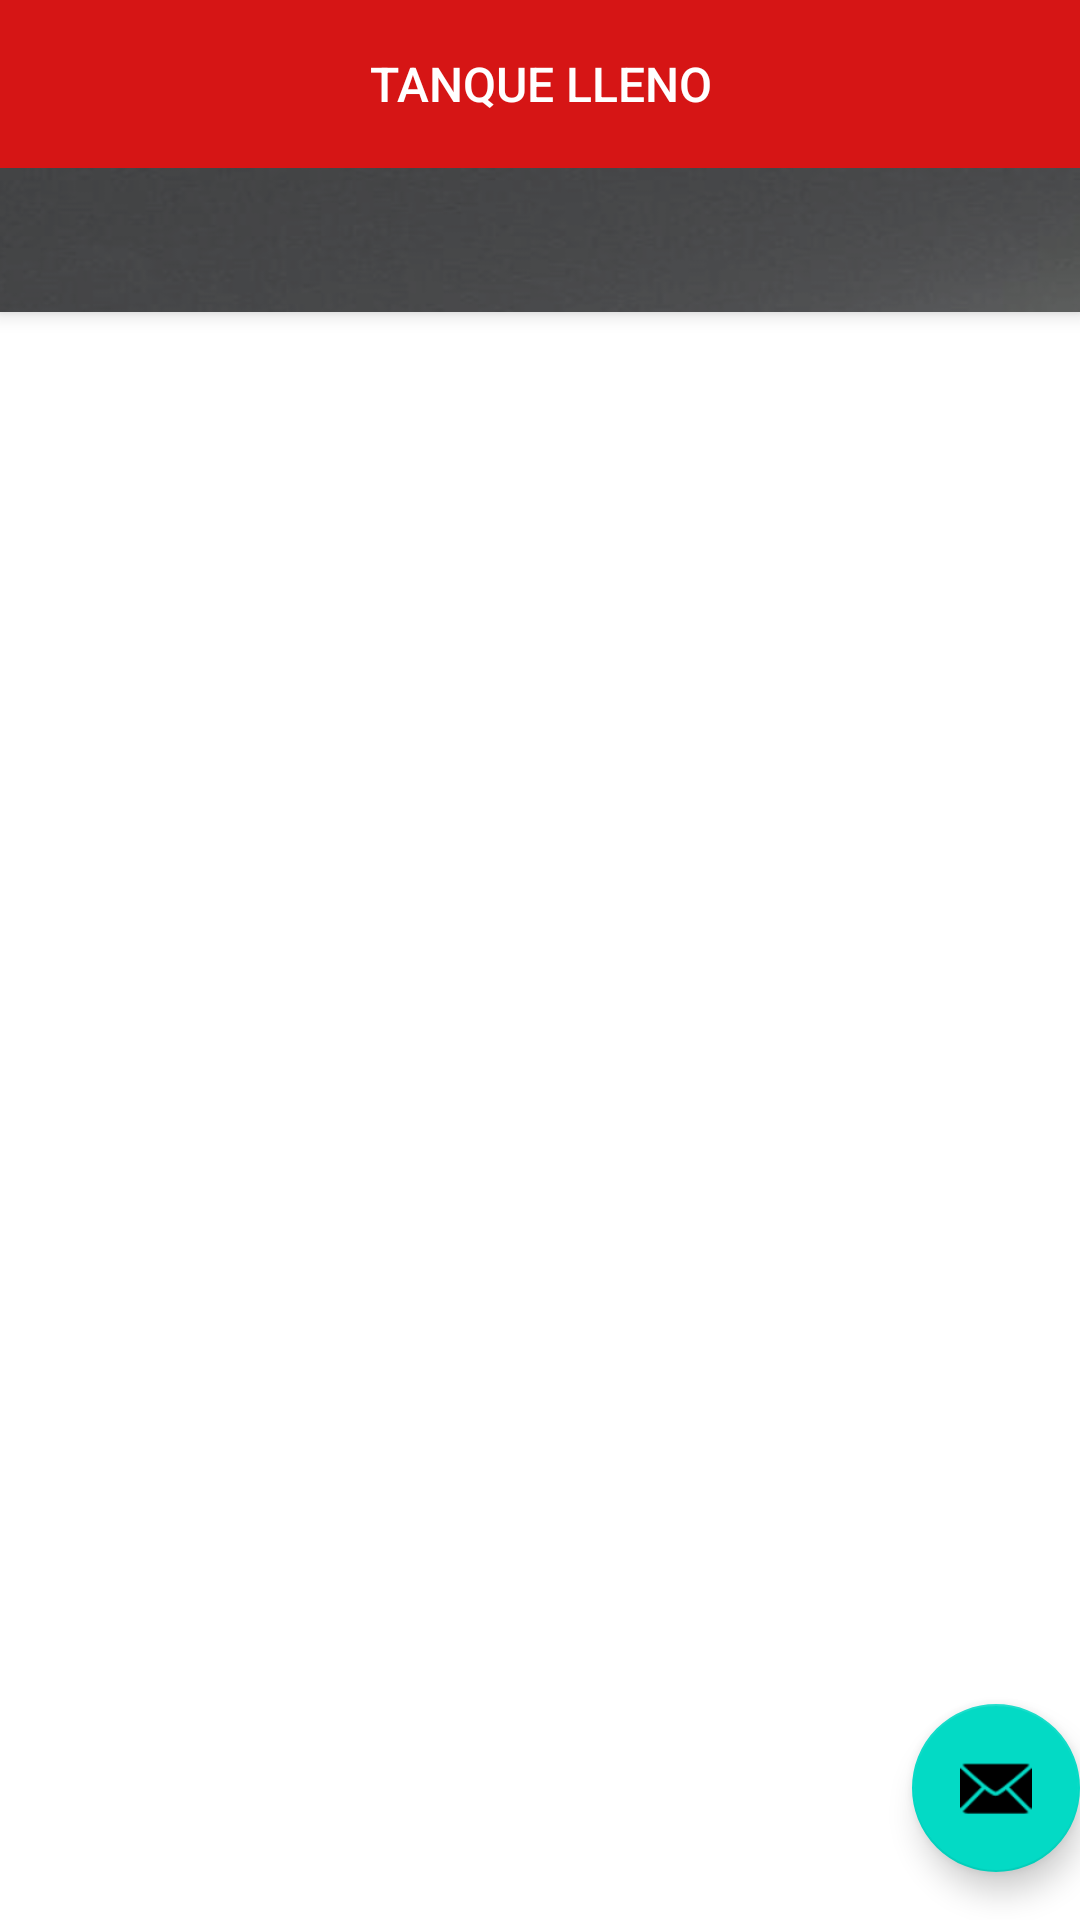

Locate icon controls on the screen. Image size 1080px×1920px, boxes as {"x1": x1, "y1": y1, "x2": x2, "y2": y2}.
email: {"x1": 912, "y1": 1704, "x2": 1080, "y2": 1872}
